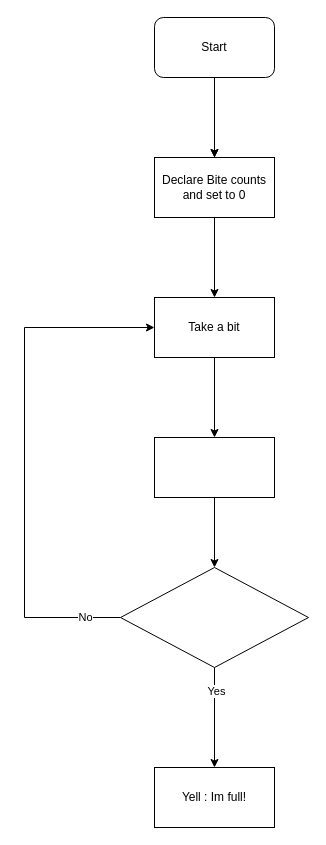
The diagram is 326 pixels wide and 845 high, and some of its shapes have lost their labels. Here are the shapes that lost their labels. From the top down, the centre of each, then its label:
At pixel 214 467: "add 1 to bite count".
At pixel 214 617: "is the bite count greater or equal to 8?".
